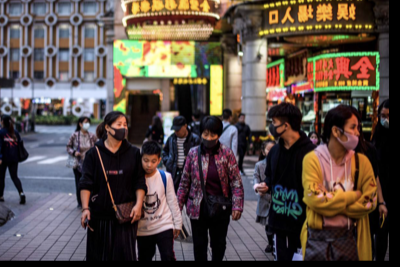mask_weared_incorrect: (338, 120, 359, 150)
with_mask: (199, 127, 218, 149), (107, 118, 127, 138), (267, 118, 285, 139), (378, 109, 387, 126), (79, 118, 90, 131)
without_mask: (139, 155, 157, 171), (173, 125, 183, 136)
